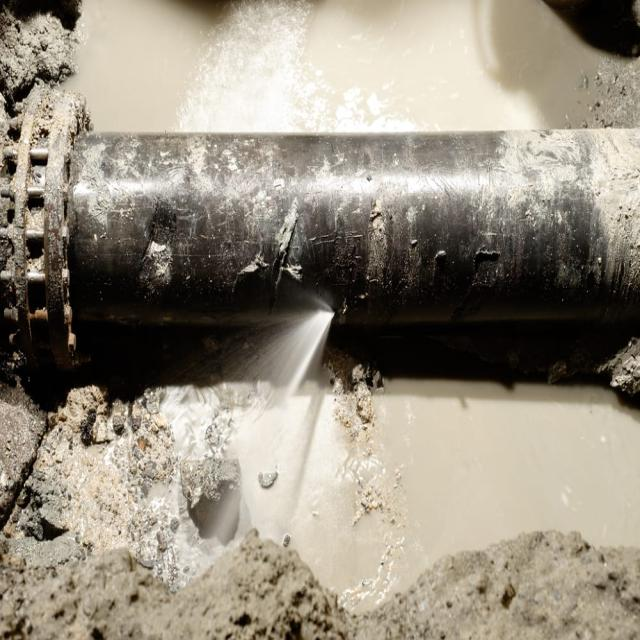leak: (240, 309, 334, 397)
